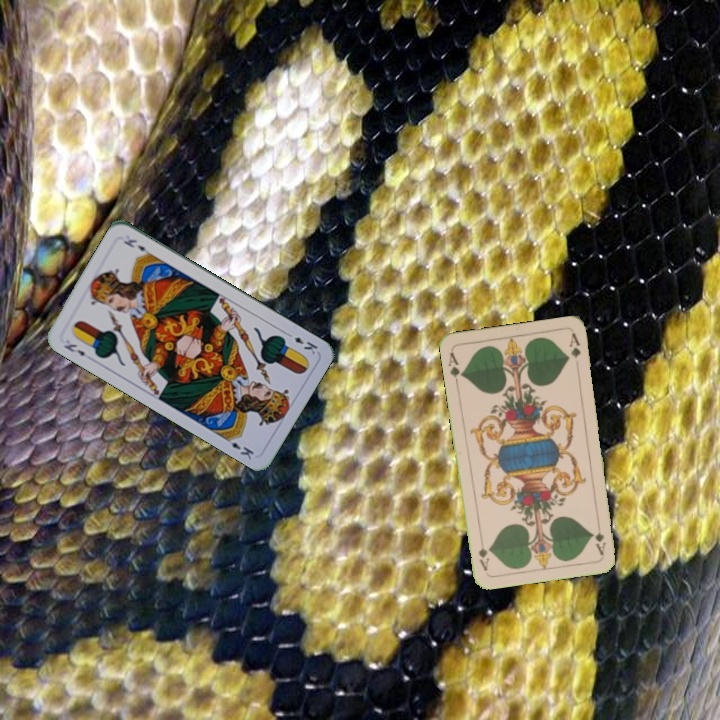EK: (282, 329, 320, 357), (60, 340, 87, 359)
GA: (444, 348, 466, 387), (591, 517, 609, 558)
